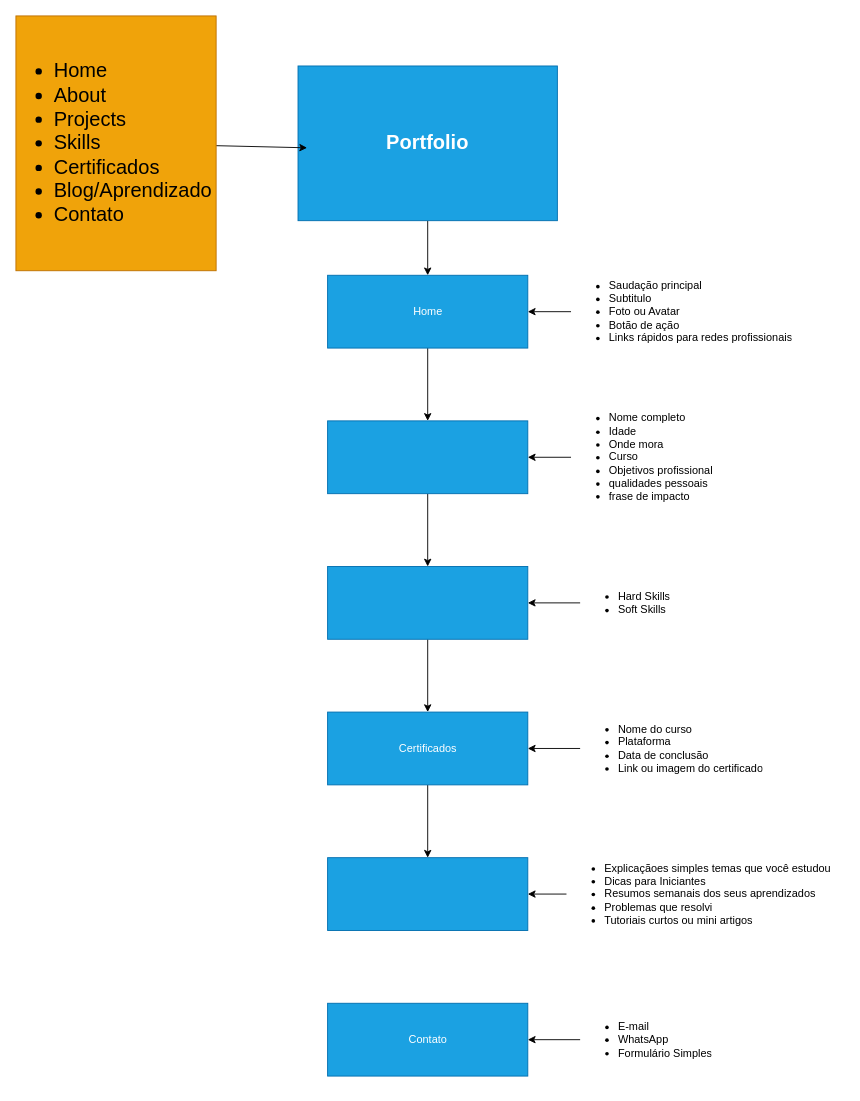
Some shapes in this 860 by 1101 pixel diagram are drawn without their labels. Each missing label, with the centre of its shape:
"About" goes at point (427, 457).
"Blog" goes at point (427, 893).
"Skills" goes at point (427, 602).
